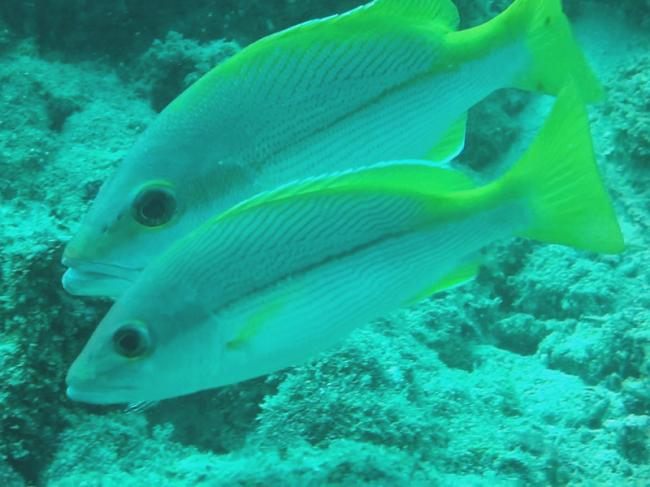fish: (64, 74, 625, 405), (61, 1, 607, 298)
